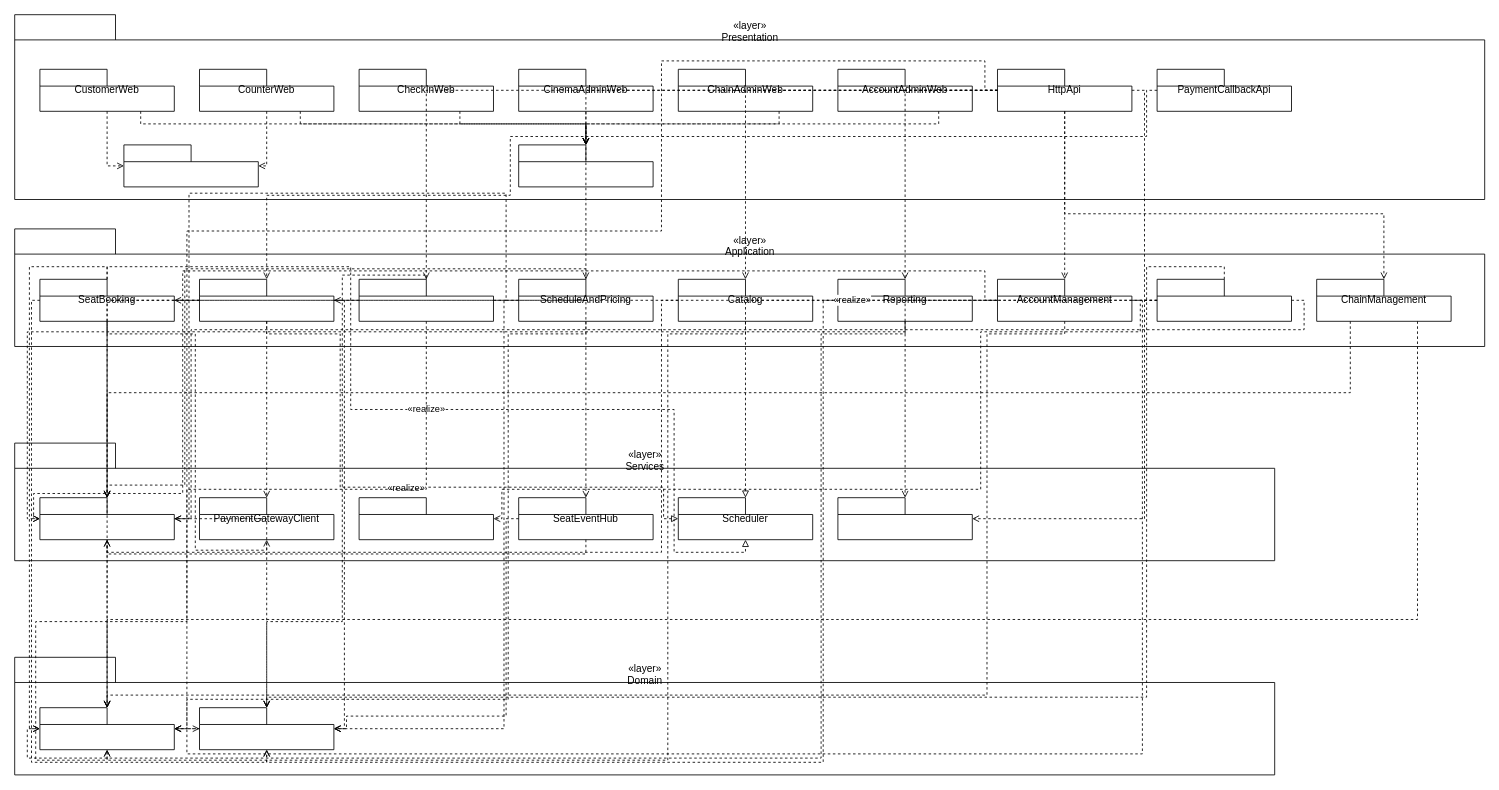
This 1499x790 diagram has some shape labels left out. Here are the shapes that lost their labels. From the top down, the box of each, then its label:
(123, 144, 258, 187): SeatMapClient
(518, 144, 653, 187): SessionClient
(199, 278, 334, 321): PaymentRefund
(358, 278, 494, 321): TicketService
(1156, 278, 1292, 321): Notification
(39, 497, 174, 540): Persistence
(358, 497, 494, 540): EmailGatewayClient
(837, 497, 972, 540): Security
(39, 707, 174, 750): CinemaOperations
(199, 707, 334, 750): Ticketing
